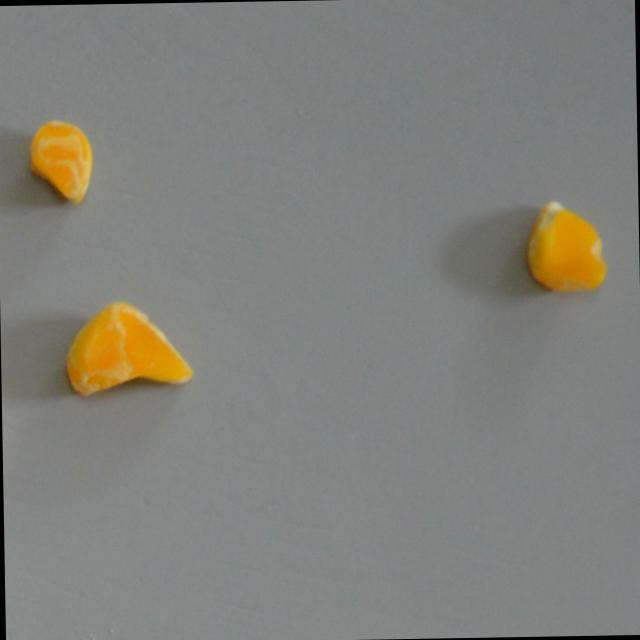dañado: (62, 294, 196, 403), (522, 191, 610, 295), (24, 112, 97, 208)
